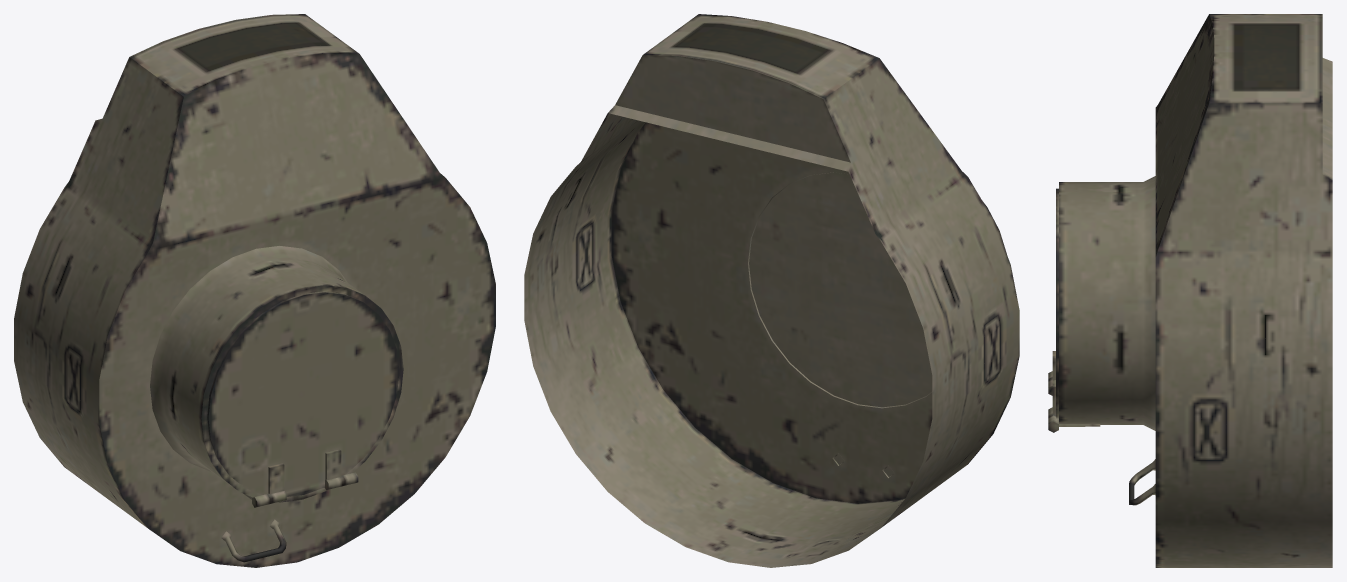
Rendered from Turret_01.glb.
The picture shows the model from 3 angles, left to right: view 1: azimuth 30°, elevation 25°; view 2: azimuth 150°, elevation 25°; view 3: azimuth 270°, elevation 25°; orthographic projection. The views are drawn at different scales.
Parts seen in each view (by area): view 1: set_0_group_0; view 2: set_0_group_0; view 3: set_0_group_0.
Part boxes in pixels (x1,y1,x2,y2): set_0_group_0: (14, 14, 495, 567); set_0_group_0: (524, 14, 1019, 567); set_0_group_0: (1048, 14, 1332, 567).
Bounding box in the file's own units: 1.19 × 1.37 × 0.7096.
Materials: 1 (1 with a texture image).
